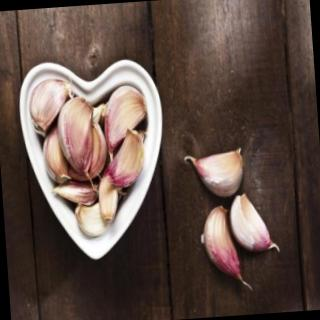Bawang Putih: (28, 74, 156, 243), (201, 204, 242, 282), (230, 191, 279, 255), (190, 147, 247, 198)
